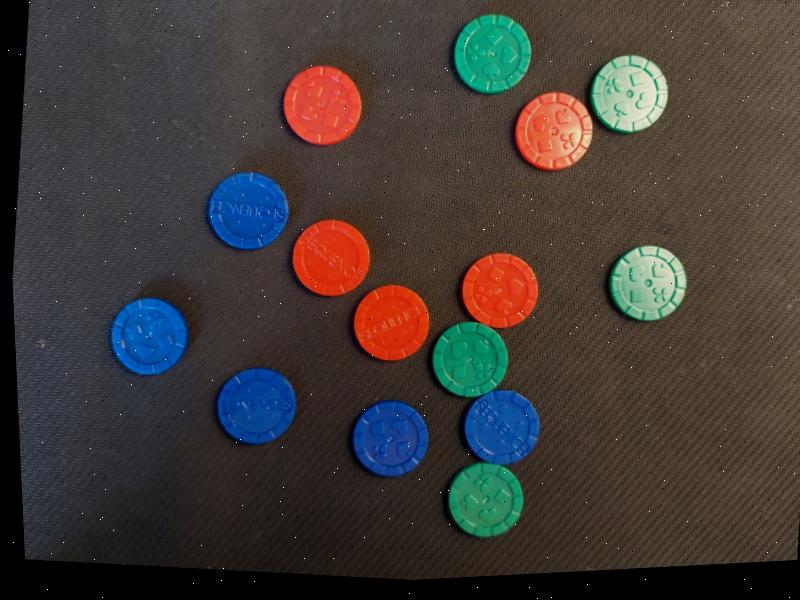Blue_Token: (205, 355, 308, 456), (197, 162, 300, 260), (99, 287, 198, 386), (341, 388, 439, 487), (456, 383, 549, 473)
Green_Token: (443, 4, 542, 104), (581, 44, 679, 144), (598, 236, 696, 330), (437, 454, 534, 547), (423, 314, 516, 406)
Red_Token: (497, 78, 607, 180), (270, 55, 374, 158), (280, 205, 381, 308), (343, 275, 441, 370), (449, 241, 546, 336)
